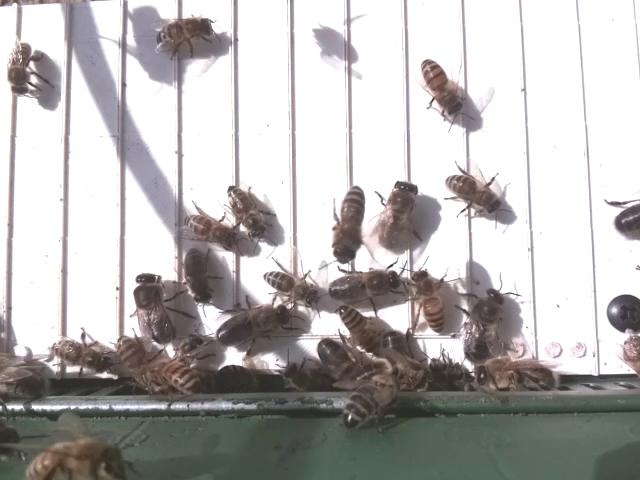Drone: (130, 267, 177, 348), (213, 303, 292, 351), (461, 286, 506, 364), (324, 267, 404, 307), (375, 179, 419, 250), (314, 332, 356, 387)
Worker: (418, 52, 464, 121), (331, 180, 367, 264), (442, 170, 505, 218), (409, 264, 449, 336), (259, 267, 324, 311), (179, 208, 240, 252), (153, 14, 217, 54), (337, 301, 382, 355), (224, 183, 267, 238), (49, 334, 110, 372), (181, 244, 217, 307), (5, 35, 38, 101)
